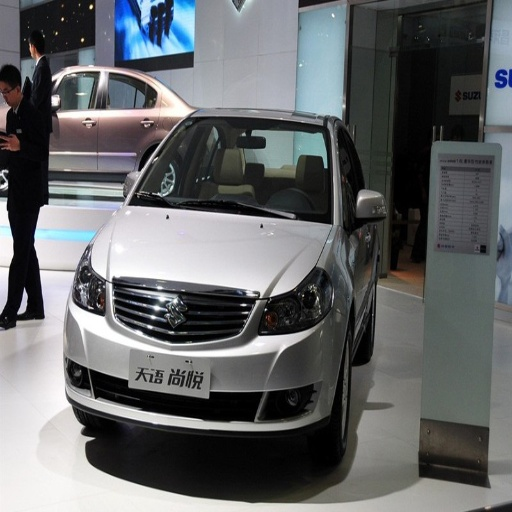front_bumper: (63, 280, 347, 437)
front_right_light: (72, 248, 106, 314)
hood: (101, 205, 331, 298)
left_mirror: (350, 188, 385, 229)
